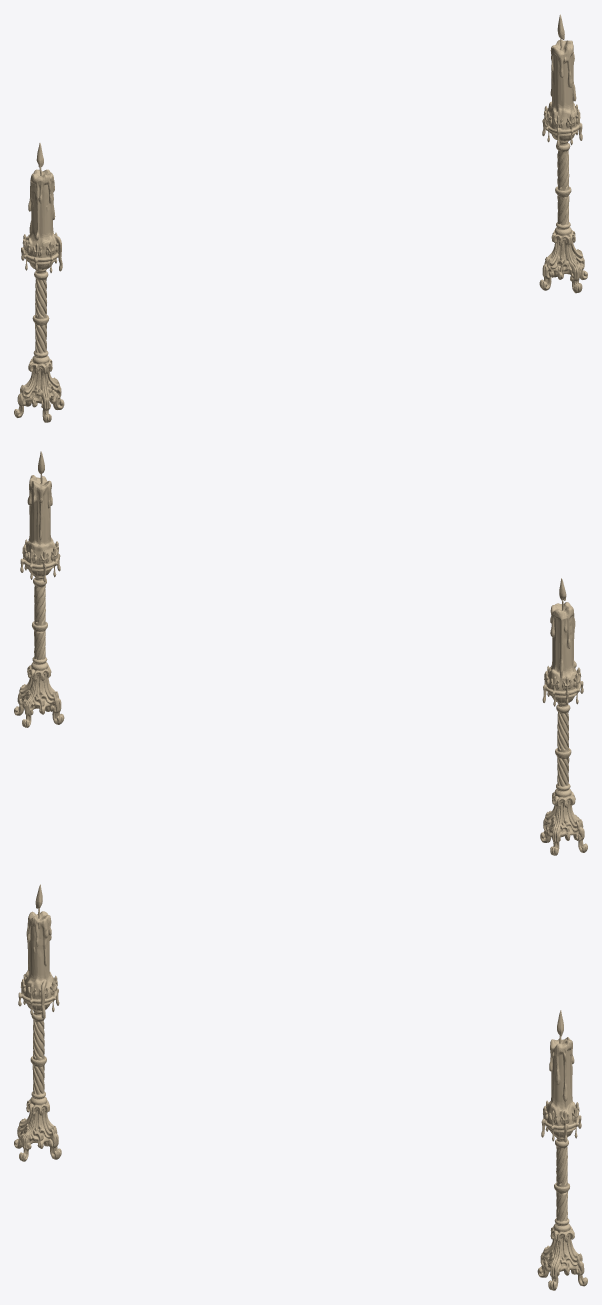
File: altar-candles-large.glb
The picture shows the model from 3 angles, top to bottom: view 1: azimuth 30°, elevation 25°; view 2: azimuth 150°, elevation 25°; view 3: azimuth 330°, elevation 25°; orthographic projection.
Visible parts, largest first — view 1: ALTAR_ACC_HYPER3D_LARGE_LEFT_MASTER, ALTAR_ACC_HYPER3D_LARGE_RIGHT_MASTER; view 2: ALTAR_ACC_HYPER3D_LARGE_LEFT_MASTER, ALTAR_ACC_HYPER3D_LARGE_RIGHT_MASTER; view 3: ALTAR_ACC_HYPER3D_LARGE_RIGHT_MASTER, ALTAR_ACC_HYPER3D_LARGE_LEFT_MASTER.
Part boxes in pixels (left/top/right/bottom): ALTAR_ACC_HYPER3D_LARGE_LEFT_MASTER: left=14, top=143, right=64, bottom=422; ALTAR_ACC_HYPER3D_LARGE_RIGHT_MASTER: left=539, top=14, right=587, bottom=293; ALTAR_ACC_HYPER3D_LARGE_LEFT_MASTER: left=540, top=578, right=587, bottom=855; ALTAR_ACC_HYPER3D_LARGE_RIGHT_MASTER: left=14, top=451, right=64, bottom=727; ALTAR_ACC_HYPER3D_LARGE_RIGHT_MASTER: left=537, top=1010, right=587, bottom=1290; ALTAR_ACC_HYPER3D_LARGE_LEFT_MASTER: left=14, top=884, right=61, bottom=1161.
Size of the model in its own units: 8.2 by 3.69 by 0.6692.
